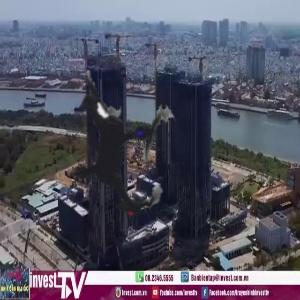drone: (9, 36, 235, 262)
